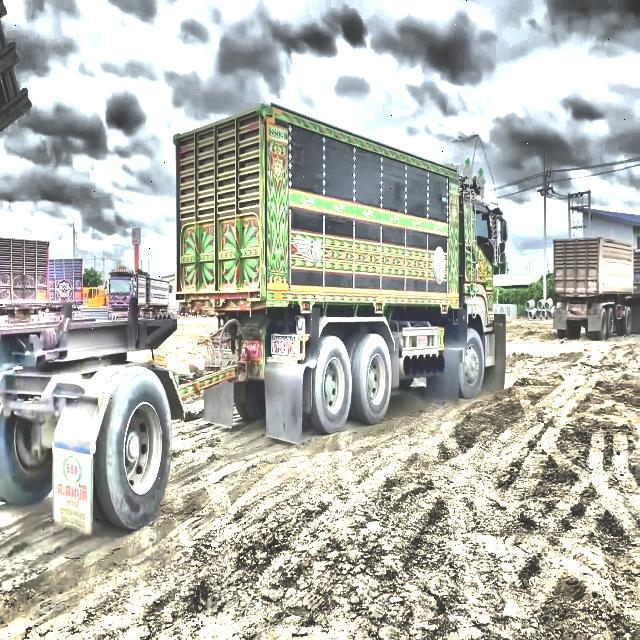trailer: (0, 95, 497, 541), (553, 231, 640, 345)
